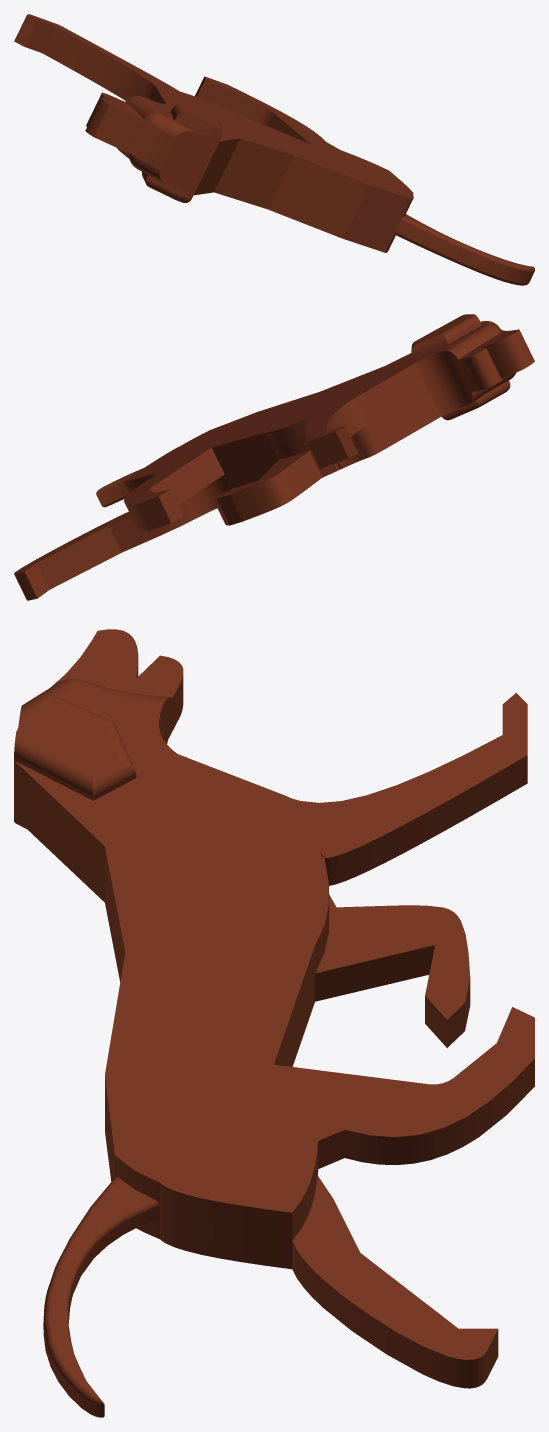
File: DOG_2_VR_v1.fbx
3 views of the same model, one above another, from view 1: azimuth 30°, elevation 25°; view 2: azimuth 150°, elevation 25°; view 3: azimuth 270°, elevation 25° (orthographic). The views are drawn at different scales.
Visible parts, largest first — view 1: Body1; view 2: Body1; view 3: Body1.
Boxes of the visible parts, x1=… form: Body1: x1=14, y1=14, x2=534, y2=285; Body1: x1=14, y1=314, x2=534, y2=600; Body1: x1=14, y1=629, x2=534, y2=1417.
Bounding box in the file's own units: 12.62 × 7.67 × 7.93.
